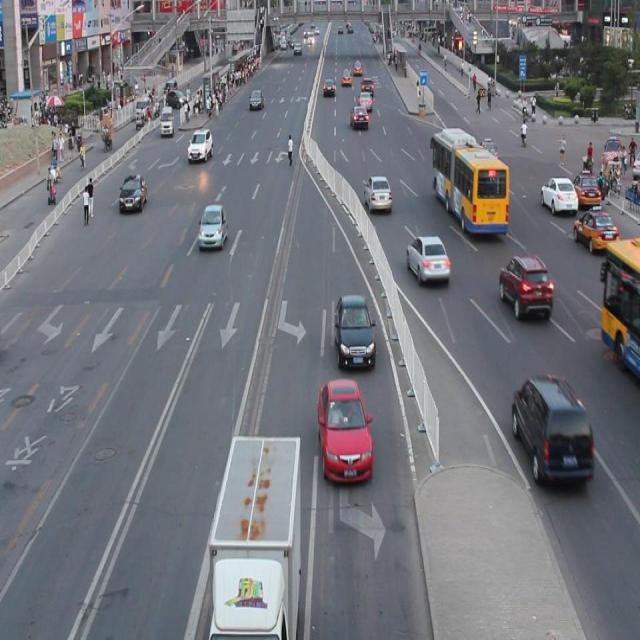bus: (207, 434, 300, 640)
car: (511, 373, 593, 482), (318, 377, 372, 482), (498, 255, 552, 319), (333, 292, 374, 368), (406, 233, 449, 283), (572, 207, 617, 250), (198, 203, 227, 250), (539, 175, 576, 211), (118, 173, 148, 213), (570, 172, 599, 205), (364, 175, 390, 211)
van: (431, 130, 508, 232), (600, 241, 640, 374)
